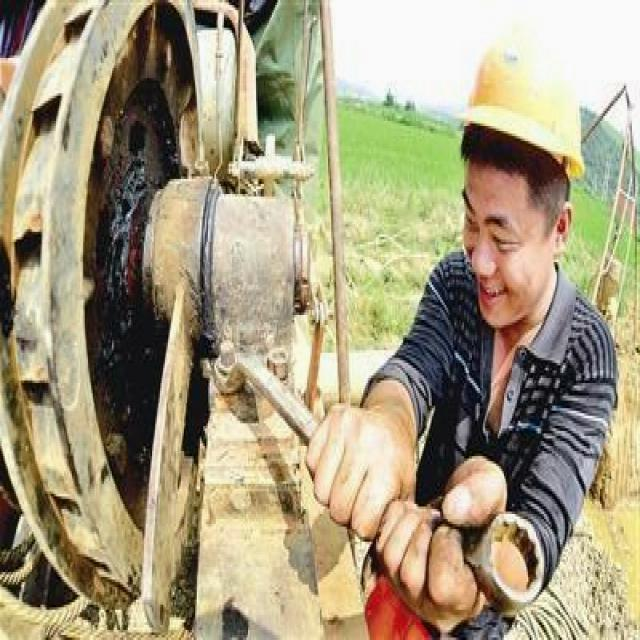face_nomask: (456, 186, 530, 318)
hand_noglove: (366, 461, 512, 620), (300, 404, 422, 537)
head_helmet: (453, 27, 587, 180)
person: (345, 38, 613, 640)
